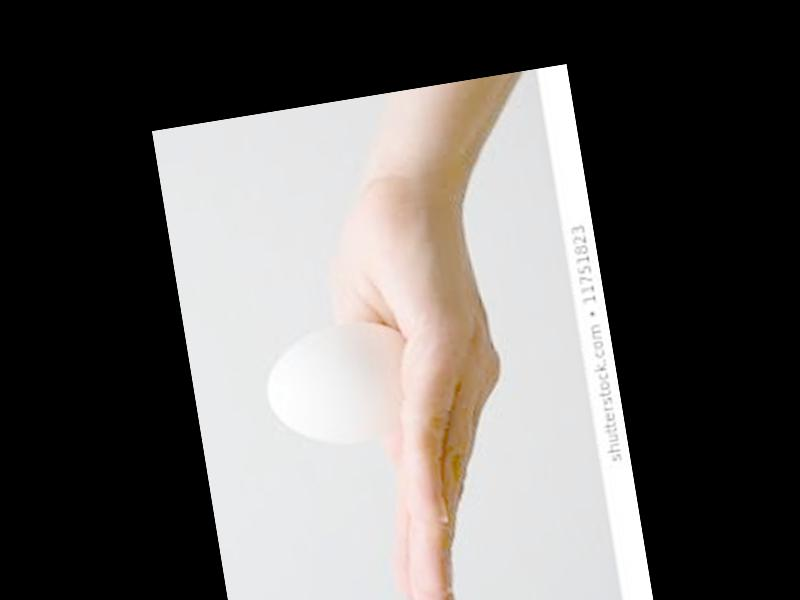Eggs: (260, 321, 420, 454)
